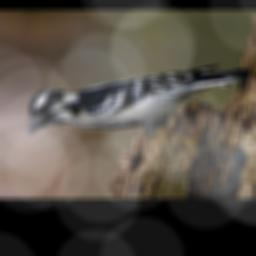Woodpecker: (20, 48, 254, 154)
